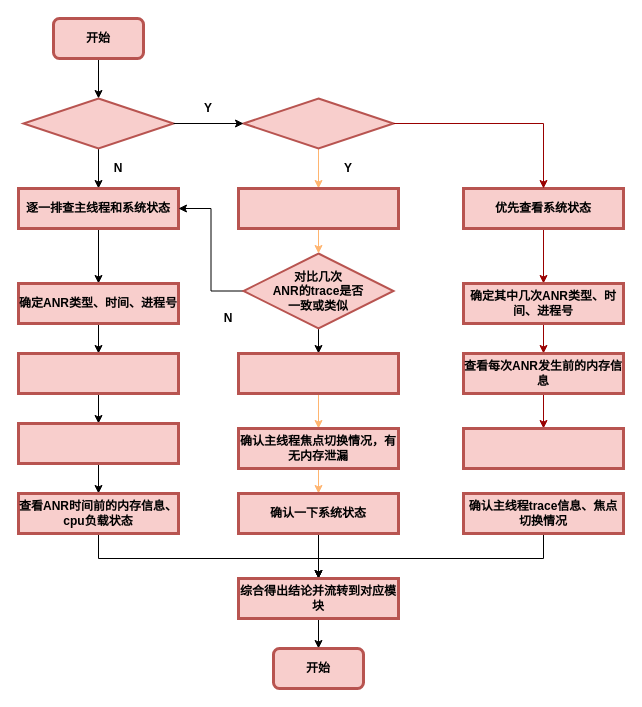
Image size: 642x707. Some labels were removed from this diagram. Here are the shapes that lost their labels. From the top down, the centre of each, then its label:
pixel 98 123: 是否发生多次ANR
pixel 318 123: 是否同一进程
pixel 318 208: 优先查看应用自身异常
pixel 98 373: 查看主线程生命周期流程、焦点切换情况
pixel 318 373: 确定主线程trace的阻塞点
pixel 98 443: 查看主线程trace信息以及有无其他异常log
pixel 543 448: 查看每次ANR发生前的CPU使用情况
